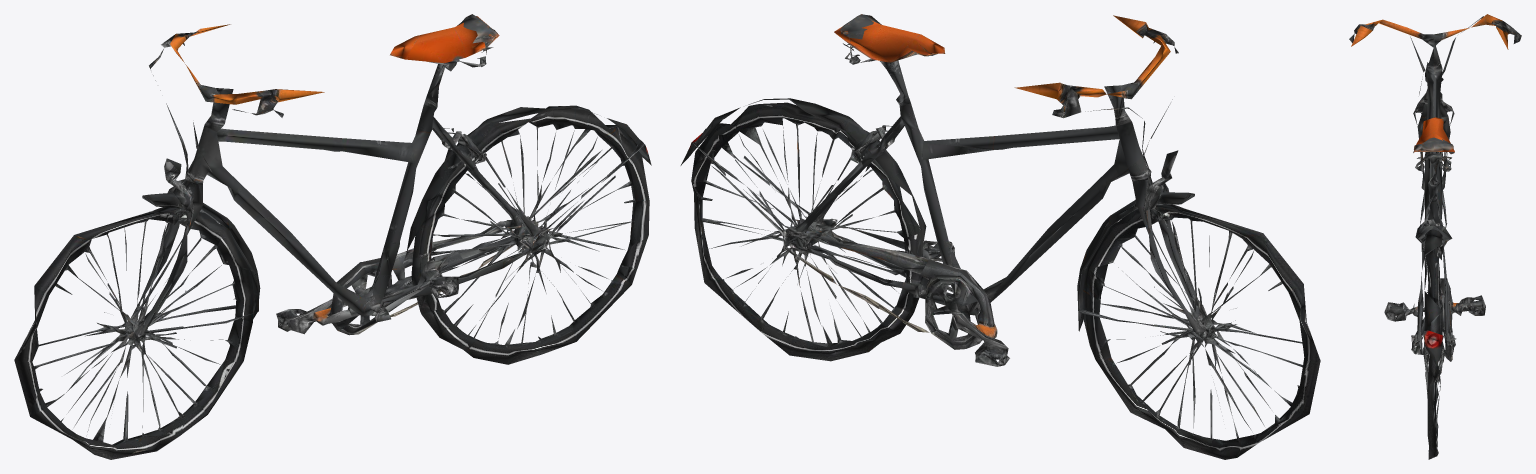
The model's file is bicycle_lod1.glb.
3 views of the same model, side by side, from view 1: azimuth 30°, elevation 25°; view 2: azimuth 150°, elevation 25°; view 3: azimuth 270°, elevation 25° (orthographic). The views are drawn at different scales.
Parts seen in each view (by area): view 1: mesh_node; view 2: mesh_node; view 3: mesh_node.
Part boxes in pixels (<box>): mesh_node: <box>14,14,651,459</box>; mesh_node: <box>680,14,1320,459</box>; mesh_node: <box>1349,14,1521,459</box>.
Size of the model in its own units: 1.9 by 1.06 by 0.5422.
1 material, 1 textured.
